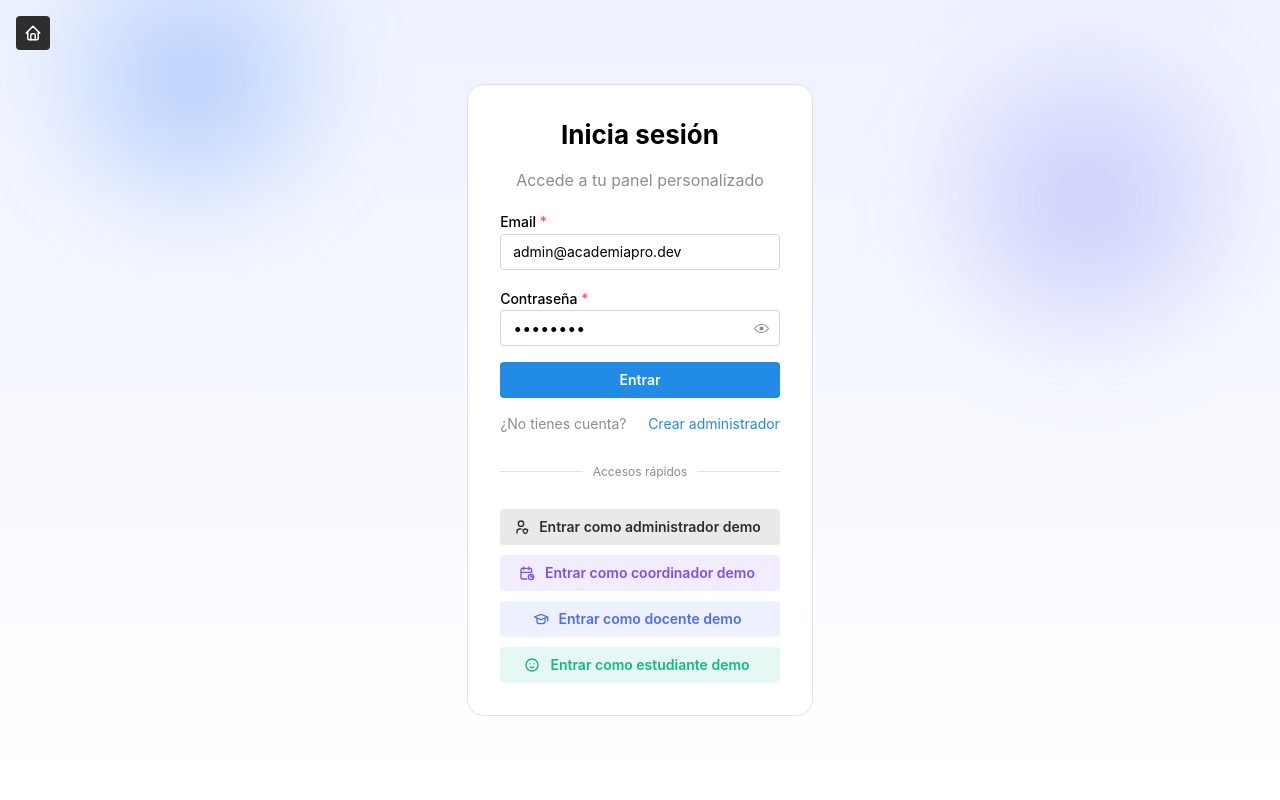
Test case: App › muestra error si login falla
The width and height of the screenshot is (1280, 800).
Click the button "Entrar".
click(640, 380)  # box [500,362,780,398]
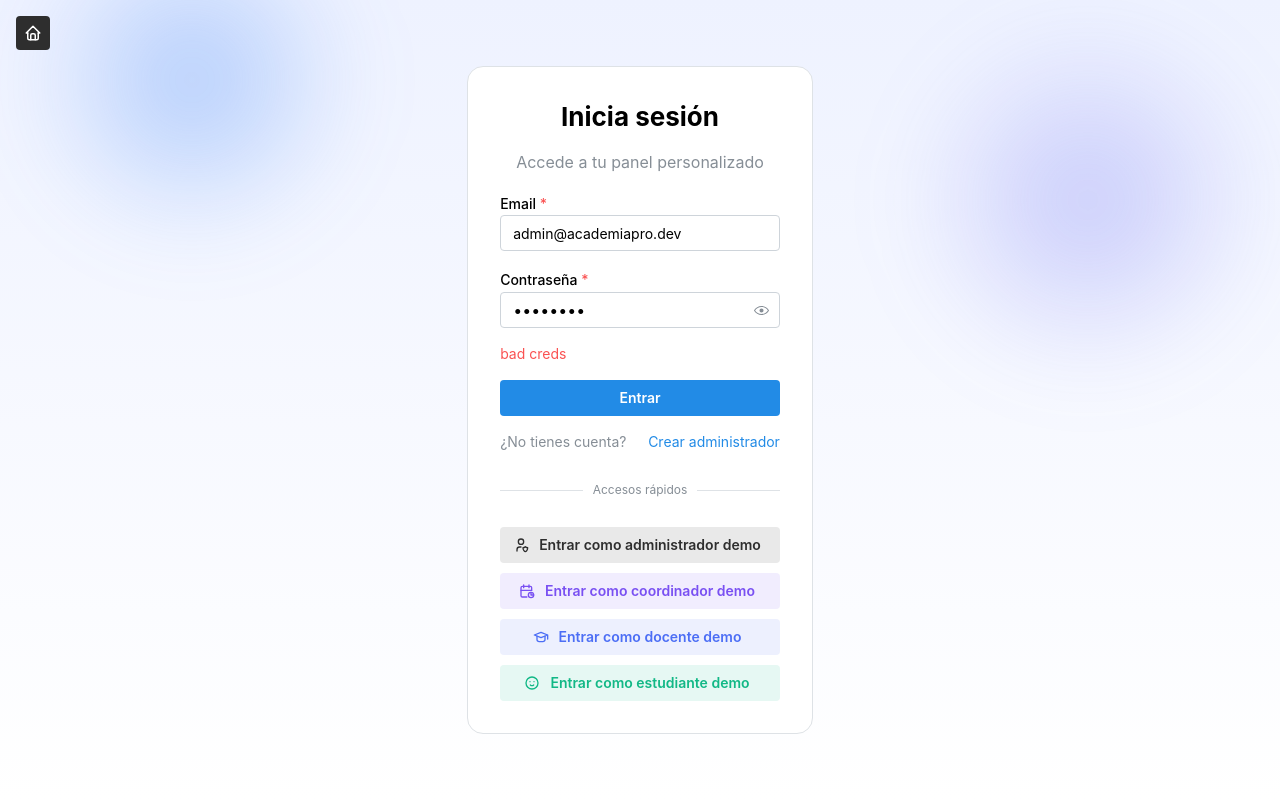
Expected: the text "bad creds" is shown, [500,345,566,362]
